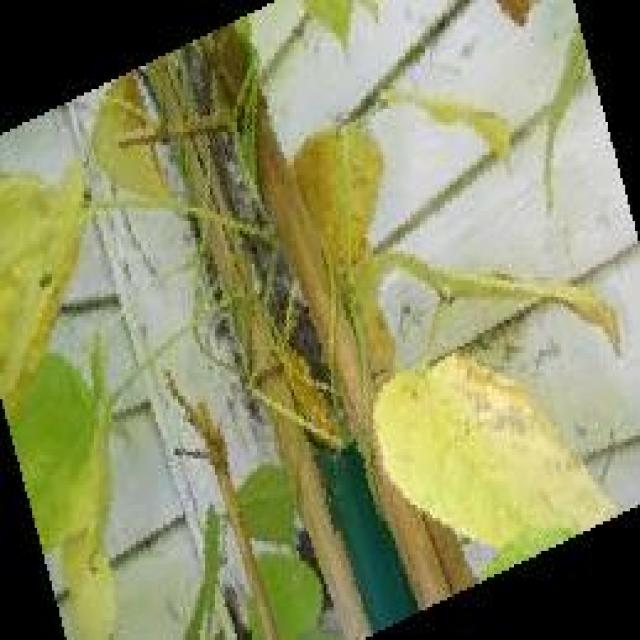Moko: (374, 366, 586, 538)
